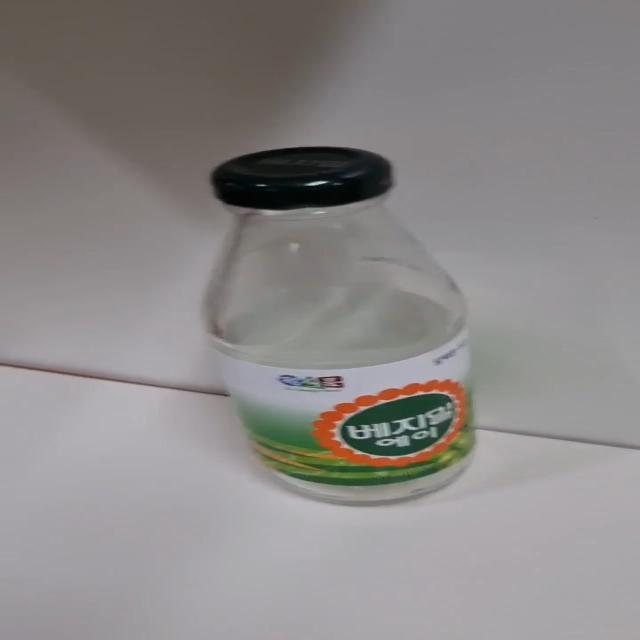Glass: (185, 139, 486, 512)
